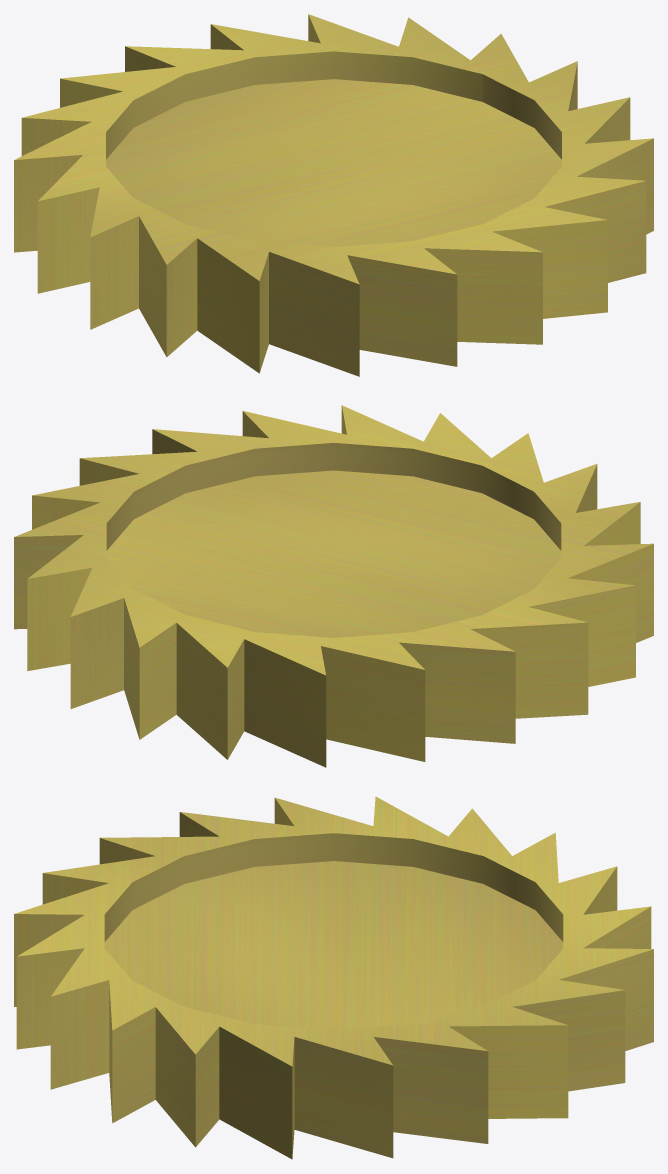
File: ClockAngleFacet5Spoke020.fbx
3 views of the same model, one above another, from view 1: azimuth 30°, elevation 25°; view 2: azimuth 150°, elevation 25°; view 3: azimuth 270°, elevation 25° (orthographic).
Parts seen in each view (by area): view 1: ClockAngleFacet5Spoke020; view 2: ClockAngleFacet5Spoke020; view 3: ClockAngleFacet5Spoke020.
Part boxes in pixels (bbox=[...]): ClockAngleFacet5Spoke020: bbox=[14, 14, 653, 376]; ClockAngleFacet5Spoke020: bbox=[14, 405, 653, 767]; ClockAngleFacet5Spoke020: bbox=[14, 796, 653, 1159].
Bounding box in the file's own units: 123 × 19.69 × 123.
